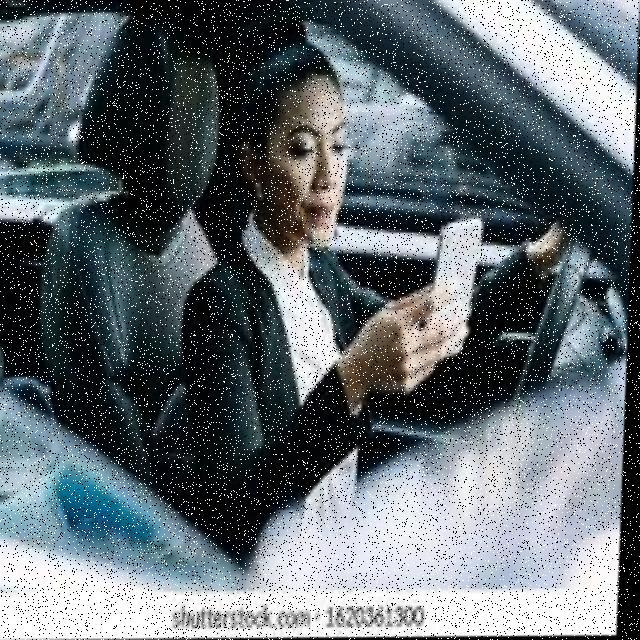noSeatbelt: (178, 247, 373, 526)
